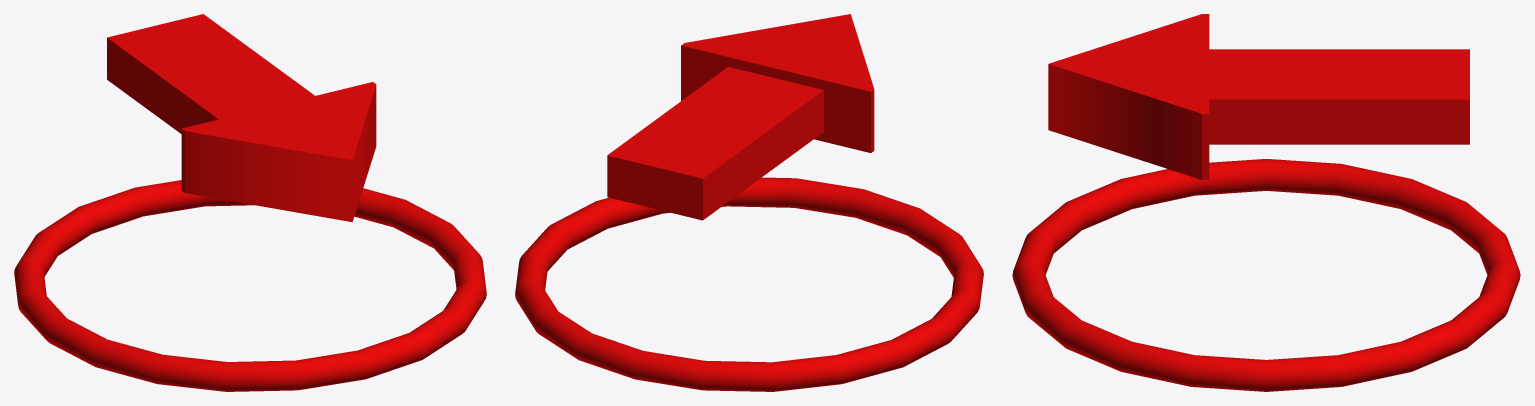
The model's file is asset_arrow_horizontal.fbx.
3 renders of one model, left to right at view 1: azimuth 30°, elevation 25°; view 2: azimuth 150°, elevation 25°; view 3: azimuth 270°, elevation 25°, orthographic. The views are drawn at different scales.
Visible parts, largest first — view 1: pCube4, pTorus1; view 2: pCube4, pTorus1; view 3: pCube4, pTorus1.
Part boxes in pixels (x1,y1,x2,y2): pCube4: (107,14,376,222); pTorus1: (14,180,486,391); pCube4: (607,14,874,220); pTorus1: (515,177,983,391); pCube4: (1048,14,1469,179); pTorus1: (1012,159,1520,391).
Size of the model in its own units: 11.76 by 5.77 by 11.76.
